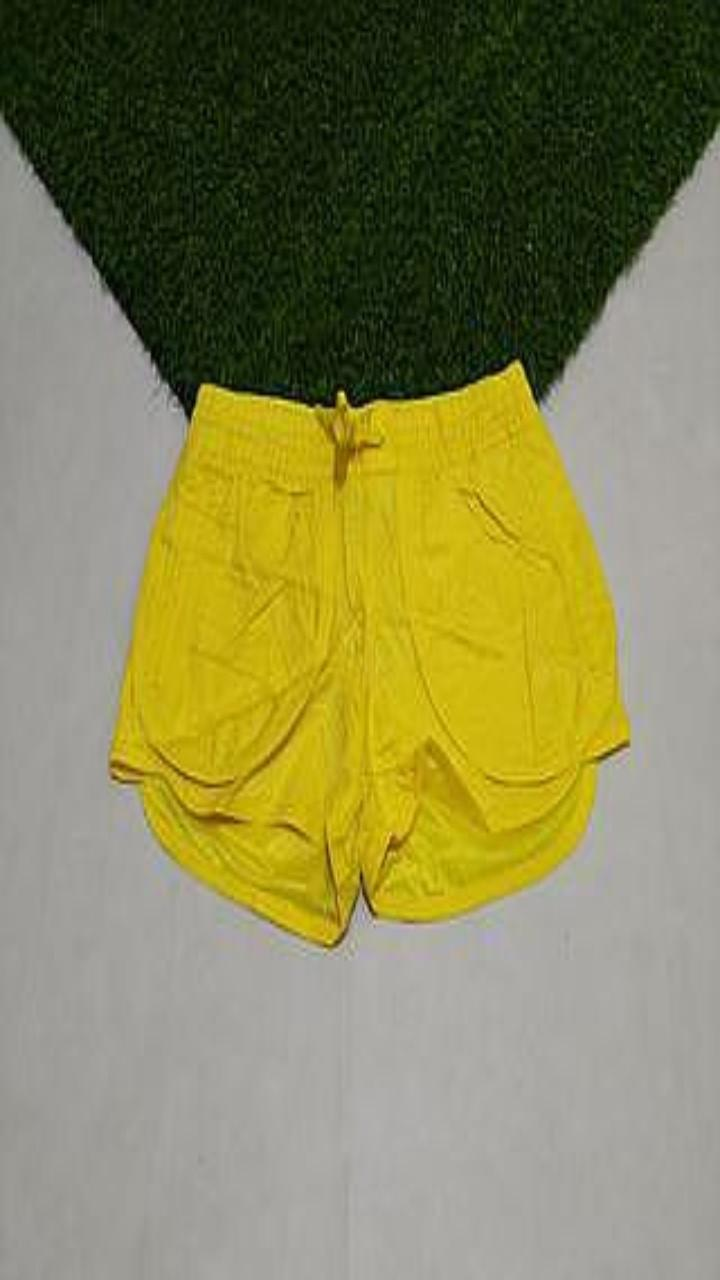Shorts: (109, 360, 629, 944)
